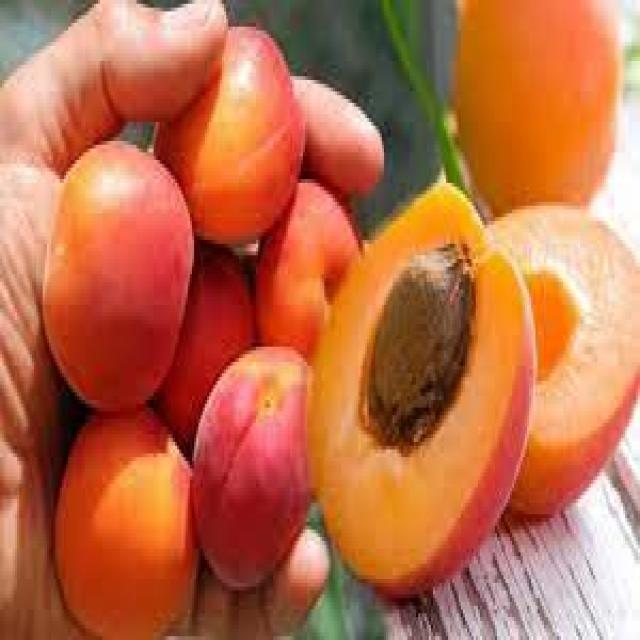Cekirdek: (365, 244, 474, 450)
Kayisi: (43, 141, 192, 408)
